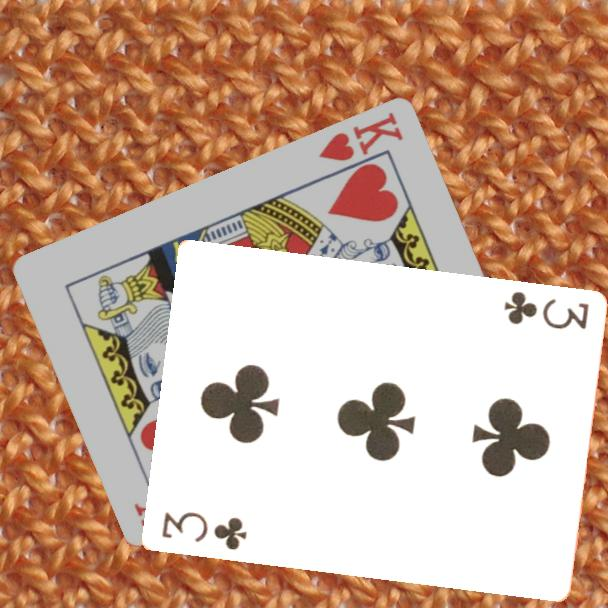c03: (158, 508, 250, 554), (500, 288, 591, 333)
h13: (315, 107, 406, 164)
